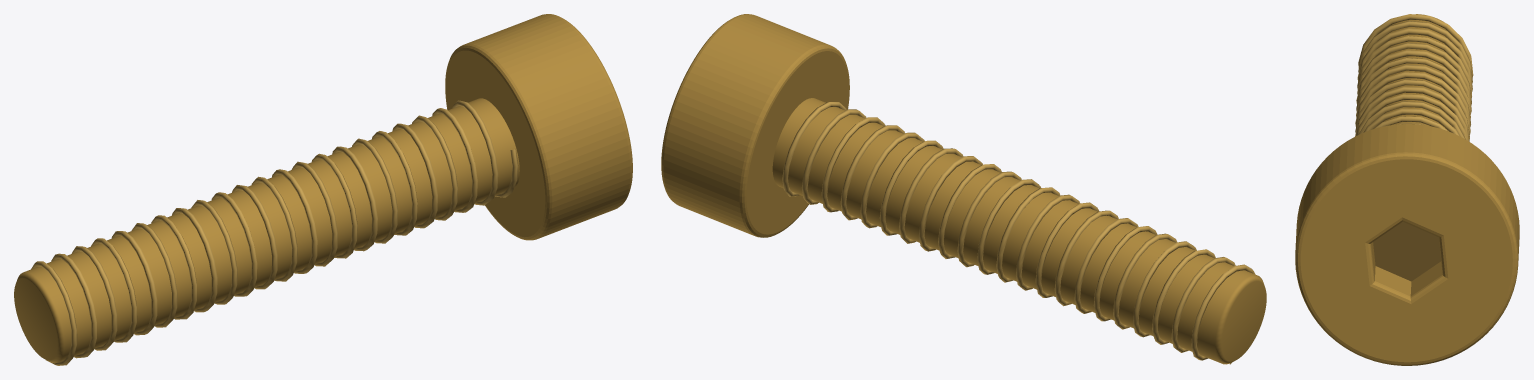
The model's file is short-screw.glb.
3 views of the same model, side by side, from view 1: azimuth 30°, elevation 25°; view 2: azimuth 150°, elevation 25°; view 3: azimuth 270°, elevation 25° (orthographic). The views are drawn at different scales.
Parts seen in each view (by area): view 1: bom-illustration-short-screw; view 2: bom-illustration-short-screw; view 3: bom-illustration-short-screw.
Boxes of the visible parts, x1=… form: bom-illustration-short-screw: x1=14, y1=14, x2=632, y2=365; bom-illustration-short-screw: x1=661, y1=14, x2=1266, y2=364; bom-illustration-short-screw: x1=1295, y1=14, x2=1519, y2=365.
Bounding box in the file's own units: 22.86 × 8.56 × 7.4.
